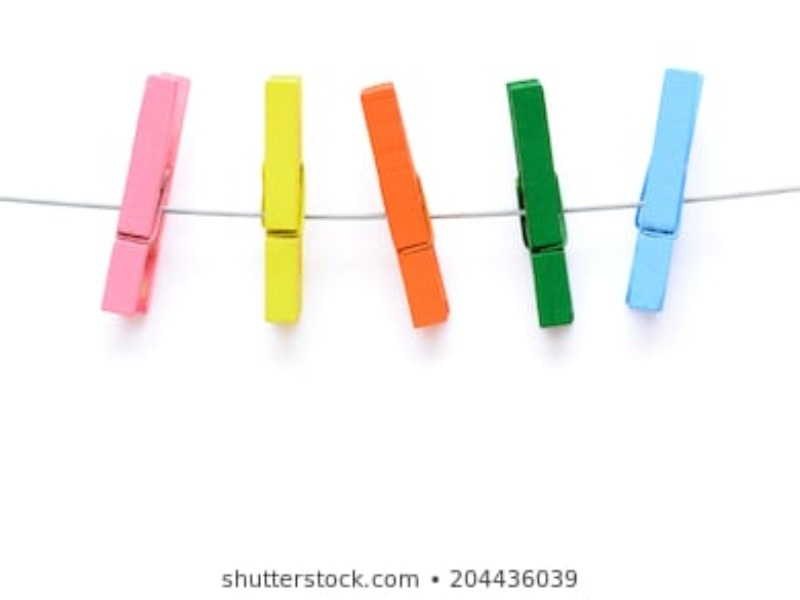plastic-peg: (351, 78, 483, 332), (92, 68, 196, 320), (621, 64, 709, 315), (501, 71, 584, 328), (256, 72, 327, 329)
